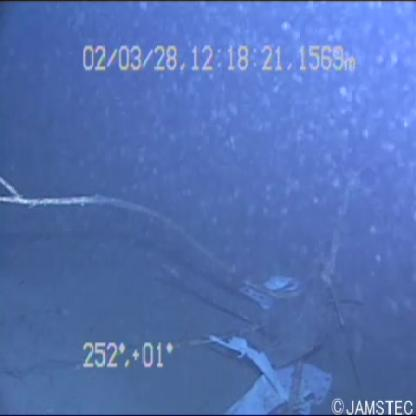Rác: (207, 306, 342, 416)
